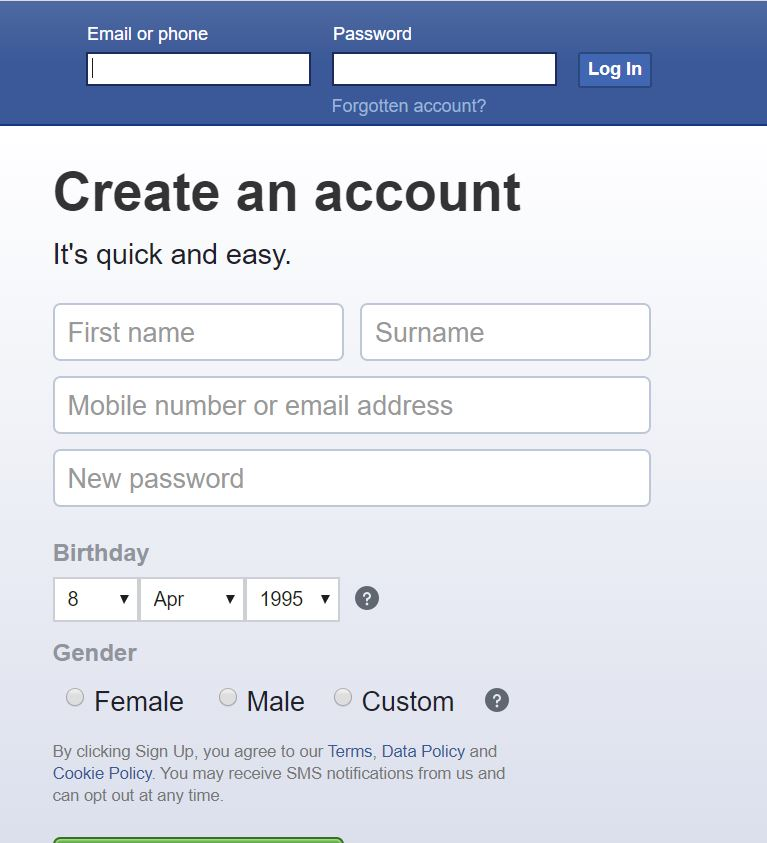button: (574, 46, 665, 97)
textbox: (36, 296, 355, 368), (354, 296, 662, 370), (328, 45, 562, 94), (82, 47, 317, 92)
